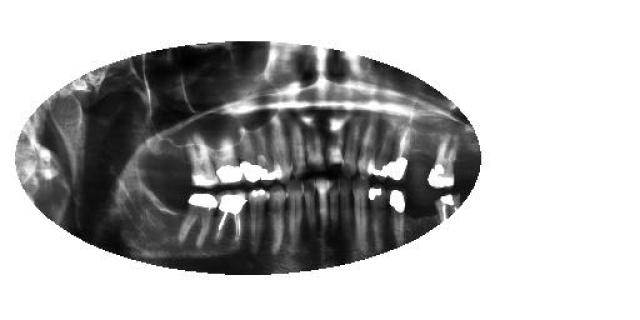Fillings: (178, 194, 218, 248), (426, 129, 459, 190), (185, 132, 215, 186), (370, 121, 395, 179), (240, 126, 264, 184), (369, 185, 389, 251), (218, 132, 242, 186), (392, 188, 408, 244)
Implant: (215, 189, 246, 245), (434, 189, 464, 229), (390, 126, 411, 182)
